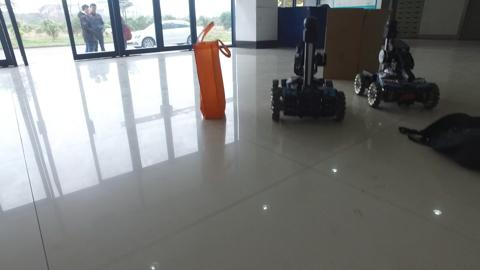bag: (191, 23, 235, 123)
chariot: (268, 15, 349, 124), (355, 19, 440, 108)
